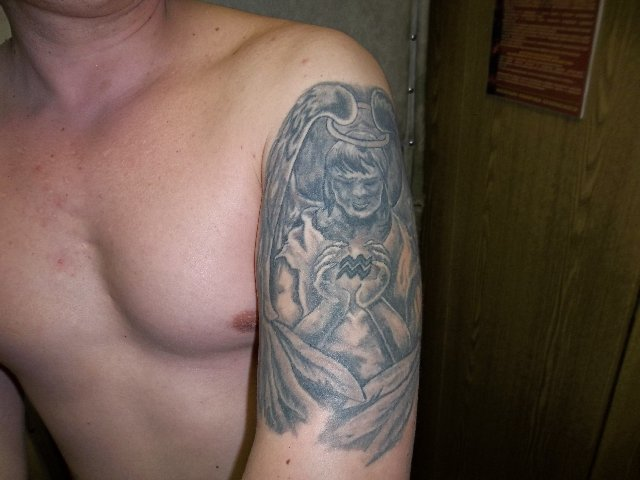tatu1_angel: (266, 34, 430, 435)
